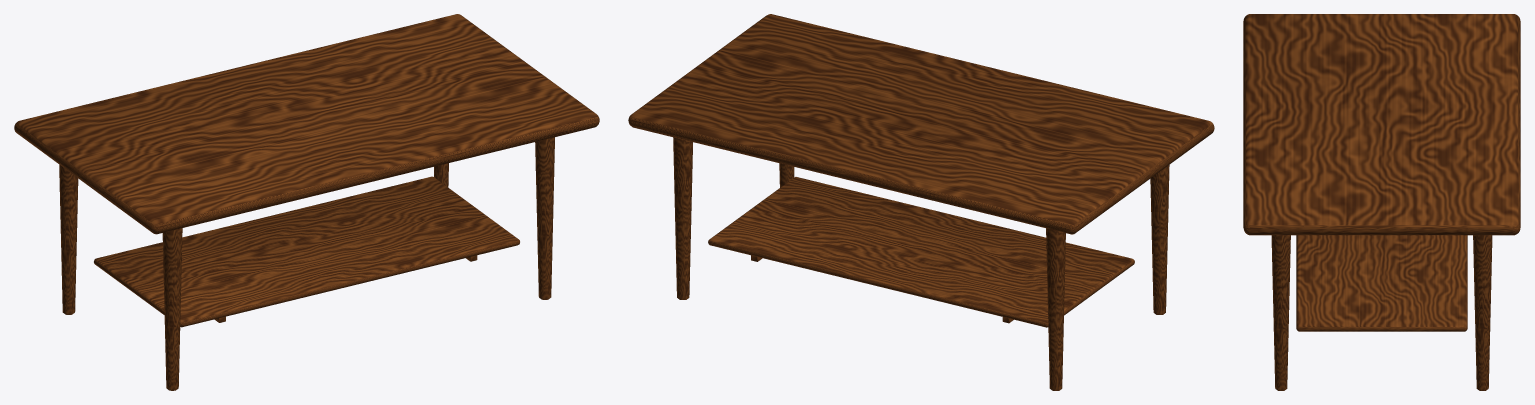
The model's file is living_coffee_table.glb.
3 renders of one model, left to right at view 1: azimuth 30°, elevation 25°; view 2: azimuth 150°, elevation 25°; view 3: azimuth 270°, elevation 25°, orthographic. The views are drawn at different scales.
Parts seen in each view (by area): view 1: Üst Tabla, Alt Raf, Ayak Ön Sağ, Ayak Ön Sol, Ayak Arka Sol; view 2: Üst Tabla, Alt Raf, Ayak Arka Sol, Ayak Arka Sağ, Ayak Ön Sol; view 3: Üst Tabla, Alt Raf, Ayak Ön Sağ, Ayak Arka Sağ.
Part boxes in pixels (x1=…): Üst Tabla: x1=14, y1=14, x2=599, y2=234; Alt Raf: x1=94, y1=176, x2=519, y2=327; Ayak Ön Sağ: x1=535, y1=137, x2=554, y2=299; Ayak Ön Sol: x1=162, y1=228, x2=182, y2=390; Ayak Arka Sol: x1=59, y1=165, x2=78, y2=314; Üst Tabla: x1=628, y1=14, x2=1214, y2=234; Alt Raf: x1=708, y1=177, x2=1134, y2=327; Ayak Arka Sol: x1=1046, y1=228, x2=1065, y2=390; Ayak Arka Sağ: x1=673, y1=137, x2=692, y2=299; Ayak Ön Sol: x1=1150, y1=165, x2=1169, y2=314; Üst Tabla: x1=1243, y1=14, x2=1520, y2=235; Alt Raf: x1=1296, y1=235, x2=1467, y2=331; Ayak Ön Sağ: x1=1271, y1=235, x2=1290, y2=390; Ayak Arka Sağ: x1=1473, y1=235, x2=1492, y2=390.
Size of the model in its own units: 1 by 0.3996 by 0.55.
1 material, 1 textured.
